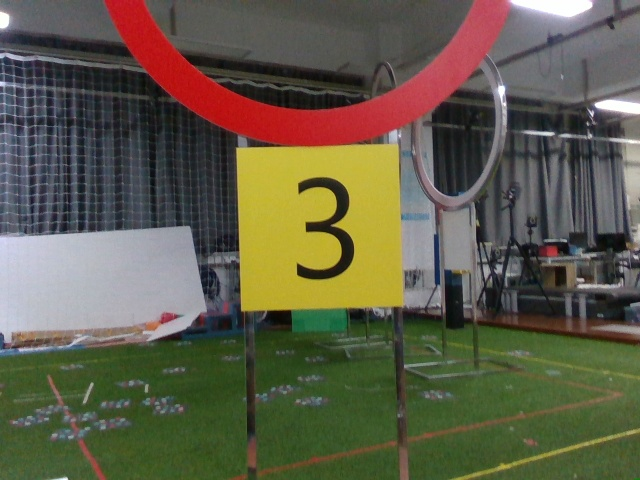target: (240, 146, 398, 307)
